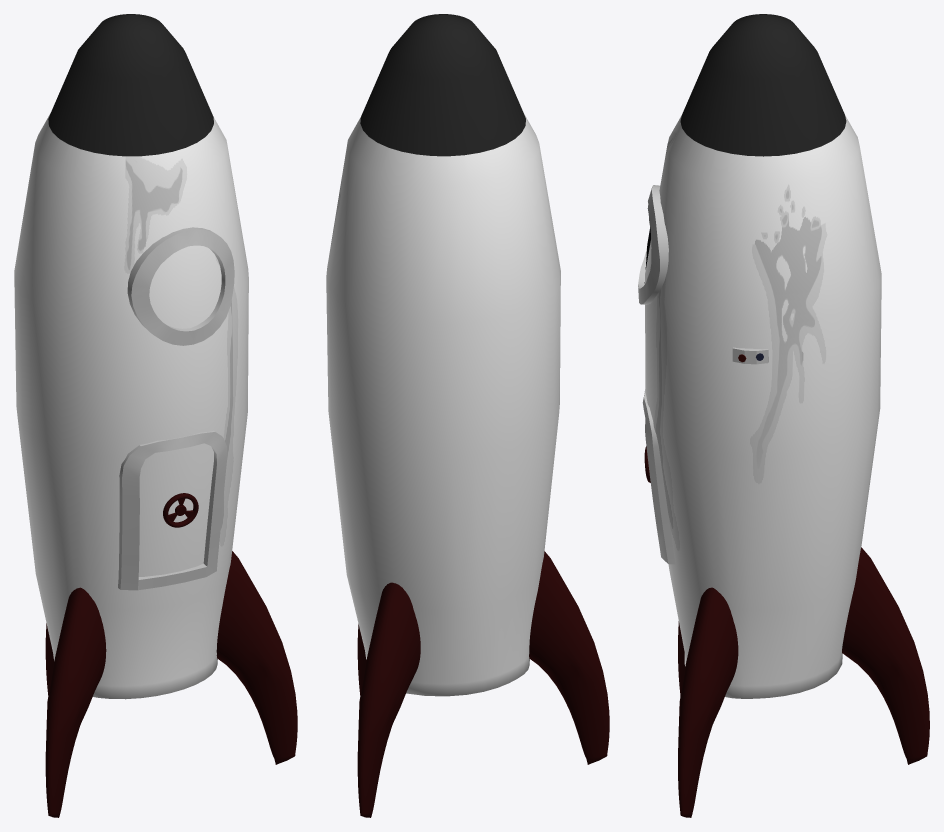
File: rocketbyt4k1t.dae
The picture shows the model from 3 angles, left to right: view 1: azimuth 30°, elevation 25°; view 2: azimuth 150°, elevation 25°; view 3: azimuth 270°, elevation 25°; orthographic projection.
Parts seen in each view (by area): view 1: MainBody, Cap, Fin, Fin_001, Hatch, WindowFrame, HatchHandle; view 2: MainBody, Cap, Fin_001, Fin_002; view 3: MainBody, Cap, Fin_002, Fin, WindowFrame, Hatch.
Part boxes in pixels (x1=…): MainBody: x1=14, y1=113, x2=248, y2=699; Cap: x1=48, y1=14, x2=213, y2=156; Fin: x1=216, y1=551, x2=297, y2=764; Fin_001: x1=45, y1=587, x2=106, y2=817; Hatch: x1=118, y1=430, x2=227, y2=590; WindowFrame: x1=127, y1=227, x2=234, y2=345; HatchHandle: x1=163, y1=493, x2=198, y2=527; MainBody: x1=326, y1=114, x2=560, y2=696; Cap: x1=360, y1=14, x2=525, y2=156; Fin_001: x1=529, y1=551, x2=609, y2=764; Fin_002: x1=357, y1=582, x2=420, y2=817; MainBody: x1=645, y1=115, x2=881, y2=698; Cap: x1=680, y1=14, x2=846, y2=156; Fin_002: x1=842, y1=547, x2=929, y2=764; Fin: x1=678, y1=587, x2=738, y2=817; WindowFrame: x1=638, y1=185, x2=668, y2=304; Hatch: x1=642, y1=390, x2=675, y2=564.
Size of the model in its own units: 2.43 by 2.45 by 6.94.
Materials: 7 (1 with a texture image).
